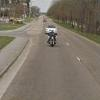Motorcycle: (42, 18, 59, 50)
